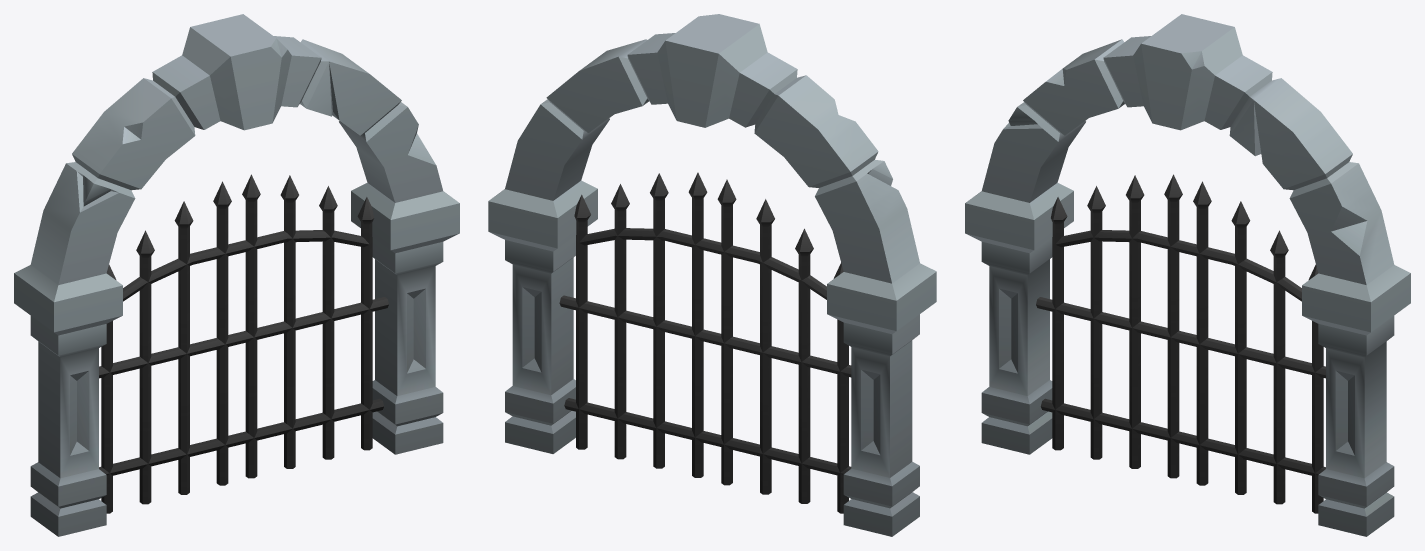
The model's file is arch_gate.gltf.
The picture shows the model from 3 angles, left to right: view 1: azimuth 30°, elevation 25°; view 2: azimuth 150°, elevation 25°; view 3: azimuth 330°, elevation 25°; orthographic projection.
Visible parts, largest first — view 1: arch_gate, arch_gate_left, arch_gate_right; view 2: arch_gate, arch_gate_left, arch_gate_right; view 3: arch_gate, arch_gate_right, arch_gate_left.
Part boxes in pixels (<box>): arch_gate: <box>14,14,459,536</box>; arch_gate_left: <box>236,174,388,478</box>; arch_gate_right: <box>99,181,239,513</box>; arch_gate: <box>488,14,936,536</box>; arch_gate_left: <box>559,172,713,477</box>; arch_gate_right: <box>709,179,851,513</box>; arch_gate: <box>965,14,1410,536</box>; arch_gate_right: <box>1036,174,1188,478</box>; arch_gate_left: <box>1185,181,1325,513</box>.
Size of the model in its own units: 4.22 by 4.41 by 0.7699.
1 material, 1 textured.
